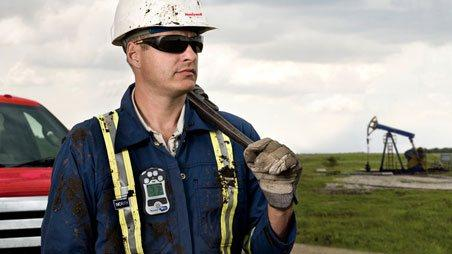helmet: (108, 1, 217, 47)
